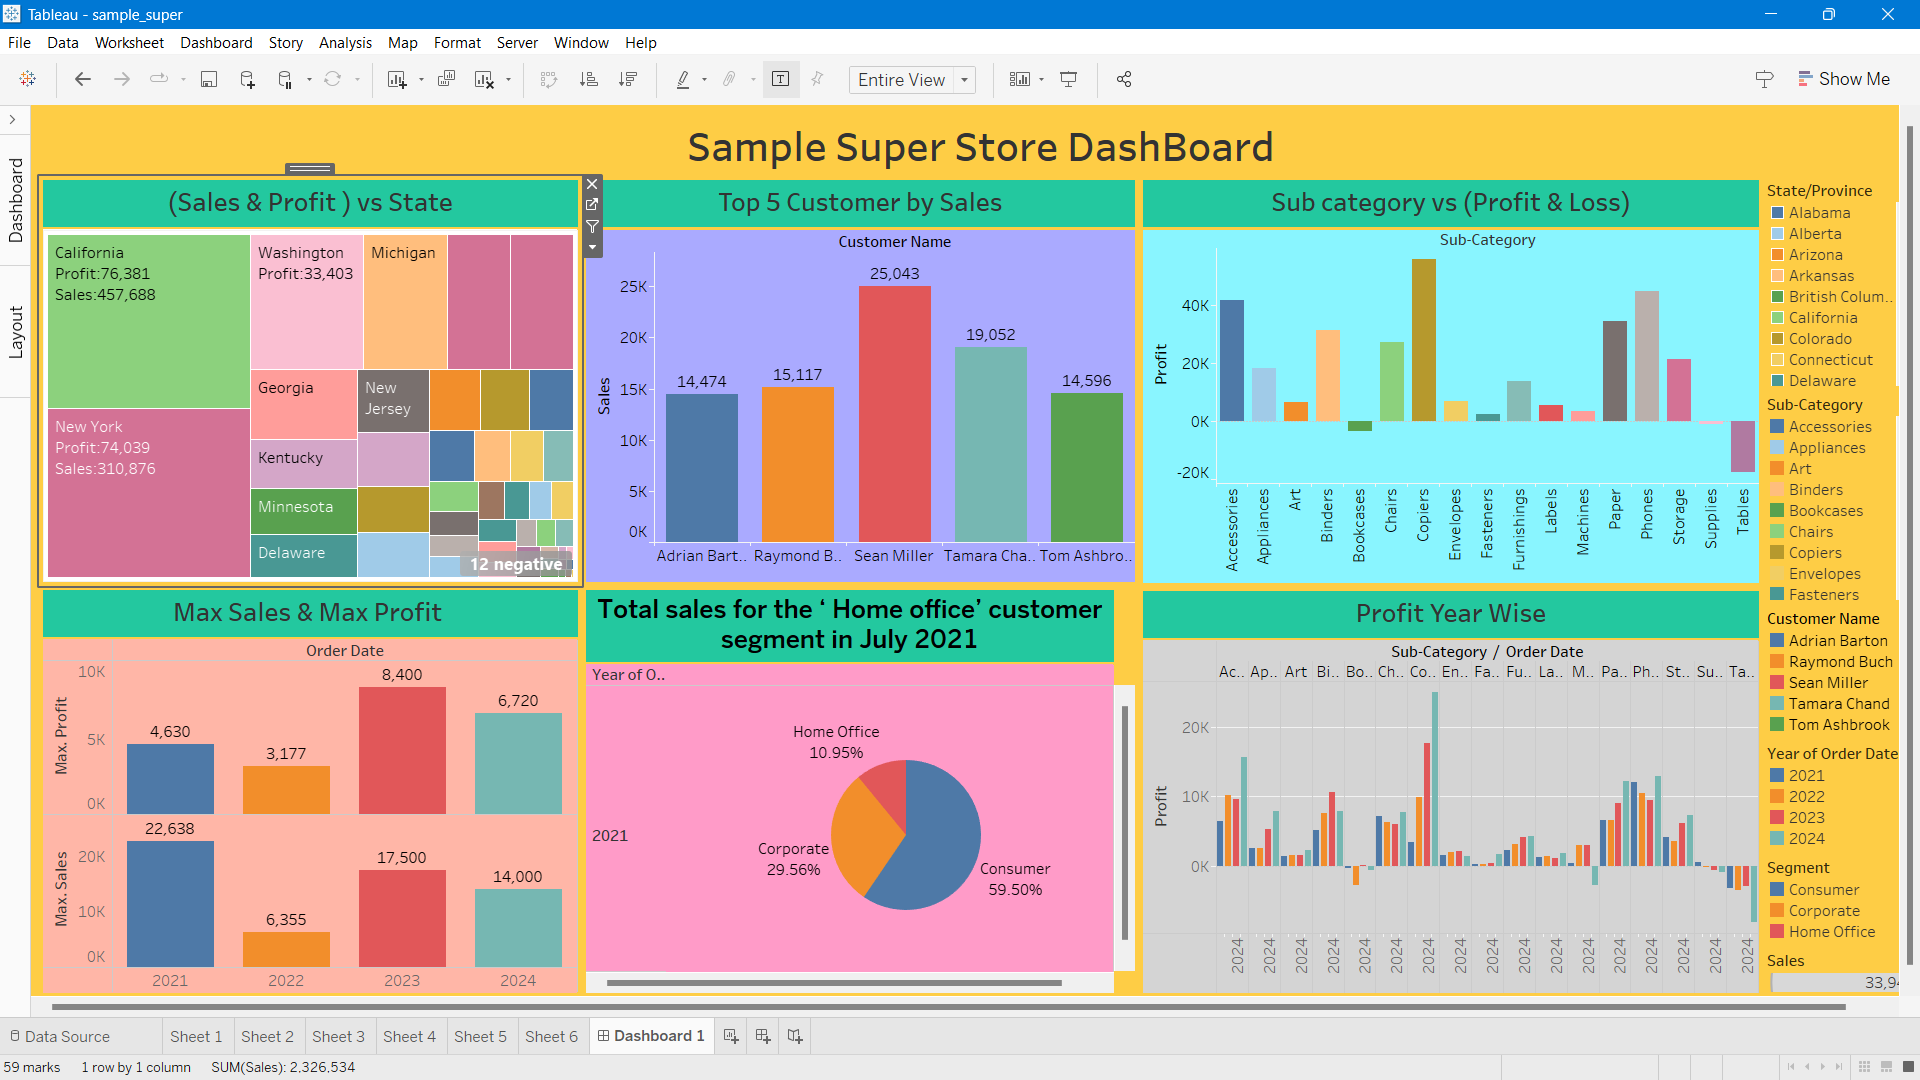

What the dashboard file says about the page in this screenshot:
{"tool":"tableau","page":{"name":"Dashboard 1","canvas":[1900,900],"ordinal":0},"visuals":[{"type":"title","box":[8,8,1884,63]},{"type":"worksheet","title":"Sheet 1","mark":"Automatic","box":[8,71,543,410.5]},{"type":"worksheet","title":"Sheet 5","mark":"Automatic","rows":["Sales"],"cols":["Customer Name"],"box":[551,71,557,410.5]},{"type":"worksheet","title":"Sheet 2","mark":"Bar","rows":["Profit"],"cols":["Sub-Category"],"box":[1108,71,624,410.5]},{"type":"legend","title":"Sheet 1","param":"[Sample - Superstore].[none:State/Province:nk]","box":[1732,71,160,214]},{"type":"legend","title":"Sheet 2","param":"[Sample - Superstore].[none:Sub-Category:nk]","box":[1732,285,160,214]},{"type":"worksheet","title":"Sheet 6","mark":"Bar","rows":["Profit","Sales"],"cols":["Order Date"],"box":[8,481.5,543,410.5]},{"type":"worksheet","title":"Sheet 4","mark":"Pie","rows":["Order Date"],"box":[551,481.5,557,410.5]},{"type":"worksheet","title":"Sheet 3","mark":"Bar","rows":["Profit"],"cols":["Sub-Category","Order Date"],"box":[1108,481.5,624,410.5]},{"type":"legend","title":"Sheet 5","param":"[Sample - Superstore].[none:Customer Name:nk]","box":[1732,499,160,135]},{"type":"legend","title":"Sheet 6","param":"[Sample - Superstore].[yr:Order Date:ok]","box":[1732,634,160,114]},{"type":"legend","title":"Sheet 4","param":"[Sample - Superstore].[none:Segment:nk]","box":[1732,748,160,93]},{"type":"legend","title":"Sheet 4","param":"[Sample - Superstore].[sum:Sales:qk]","box":[1732,841,160,51]}]}

Visuals, with their boxes in screenshot pixels (x1, y1, x2, y2):
title: (28, 0, 1905, 26)
"Sheet 1" worksheet: (28, 26, 569, 435)
"Sheet 5" worksheet: (569, 26, 1124, 435)
"Sheet 2" worksheet (Bar marks): (1124, 26, 1746, 435)
"Sheet 1" legend: (1746, 26, 1905, 239)
"Sheet 2" legend: (1746, 239, 1905, 452)
"Sheet 6" worksheet (Bar marks): (28, 435, 569, 844)
"Sheet 4" worksheet (Pie marks): (569, 435, 1124, 844)
"Sheet 3" worksheet (Bar marks): (1124, 435, 1746, 844)
"Sheet 5" legend: (1746, 452, 1905, 587)
"Sheet 6" legend: (1746, 587, 1905, 700)
"Sheet 4" legend: (1746, 700, 1905, 793)
"Sheet 4" legend: (1746, 793, 1905, 844)
